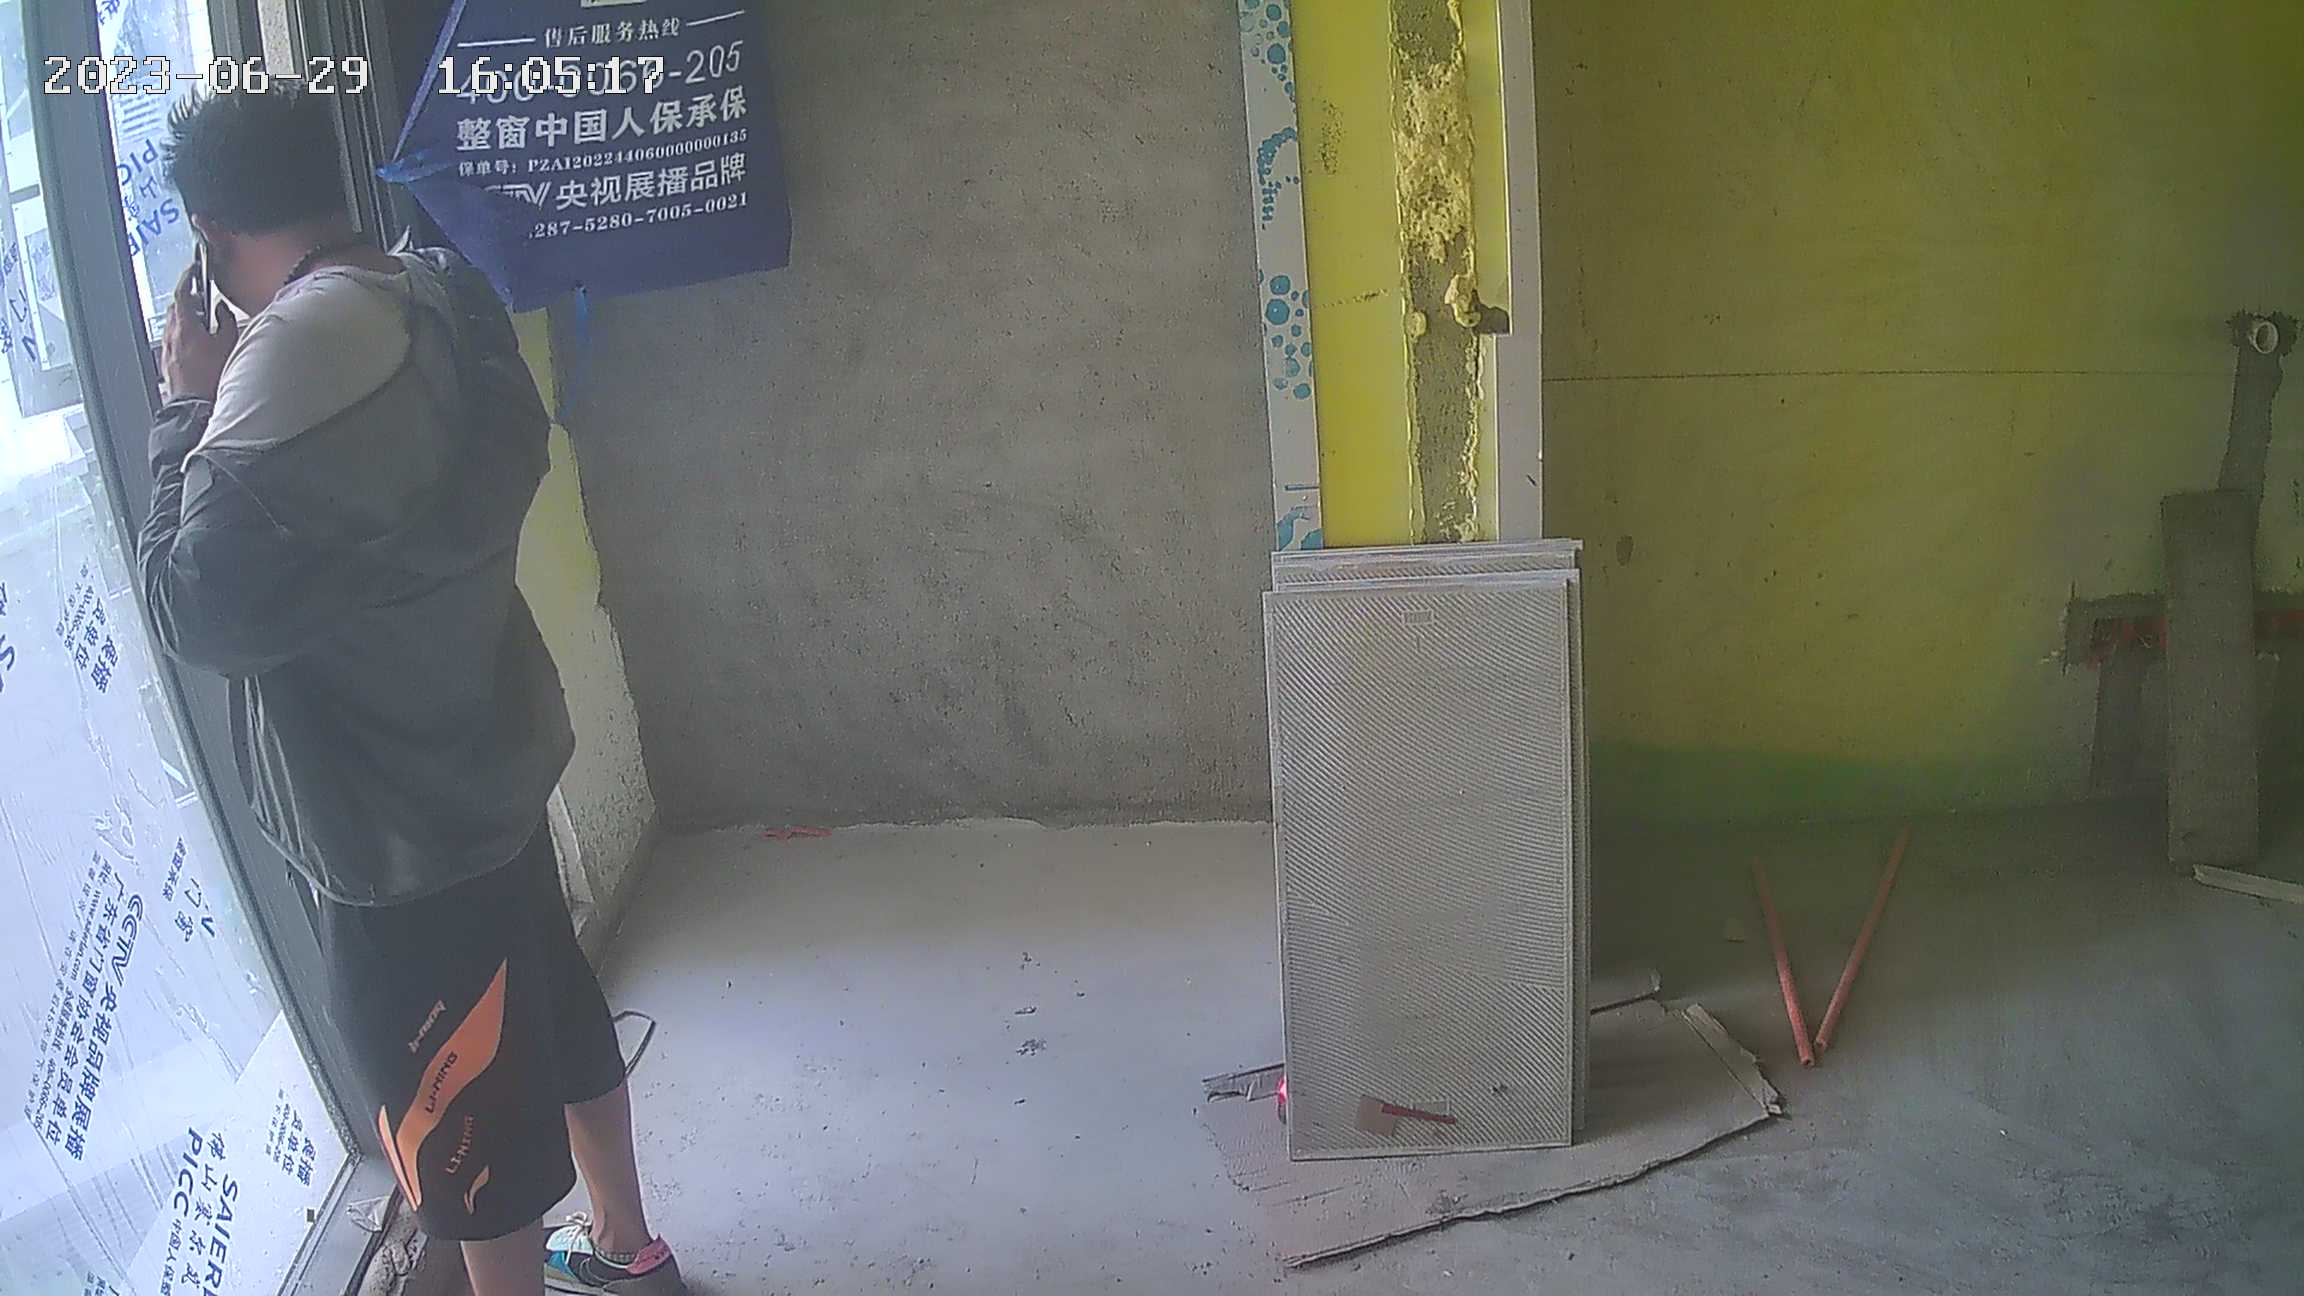people: (130, 80, 698, 1296)
window: (2, 3, 544, 1296)
